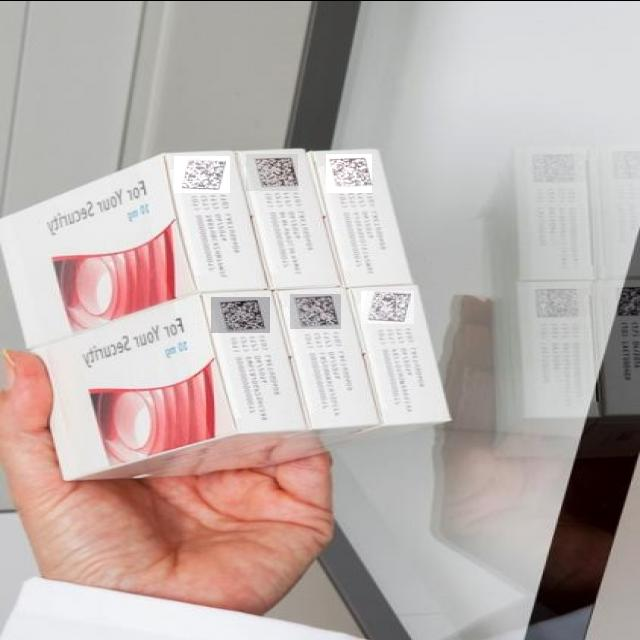DataMatrix: (211, 296, 270, 332), (175, 155, 231, 192), (246, 153, 298, 190), (326, 153, 372, 192), (290, 293, 341, 328), (361, 290, 414, 323)
